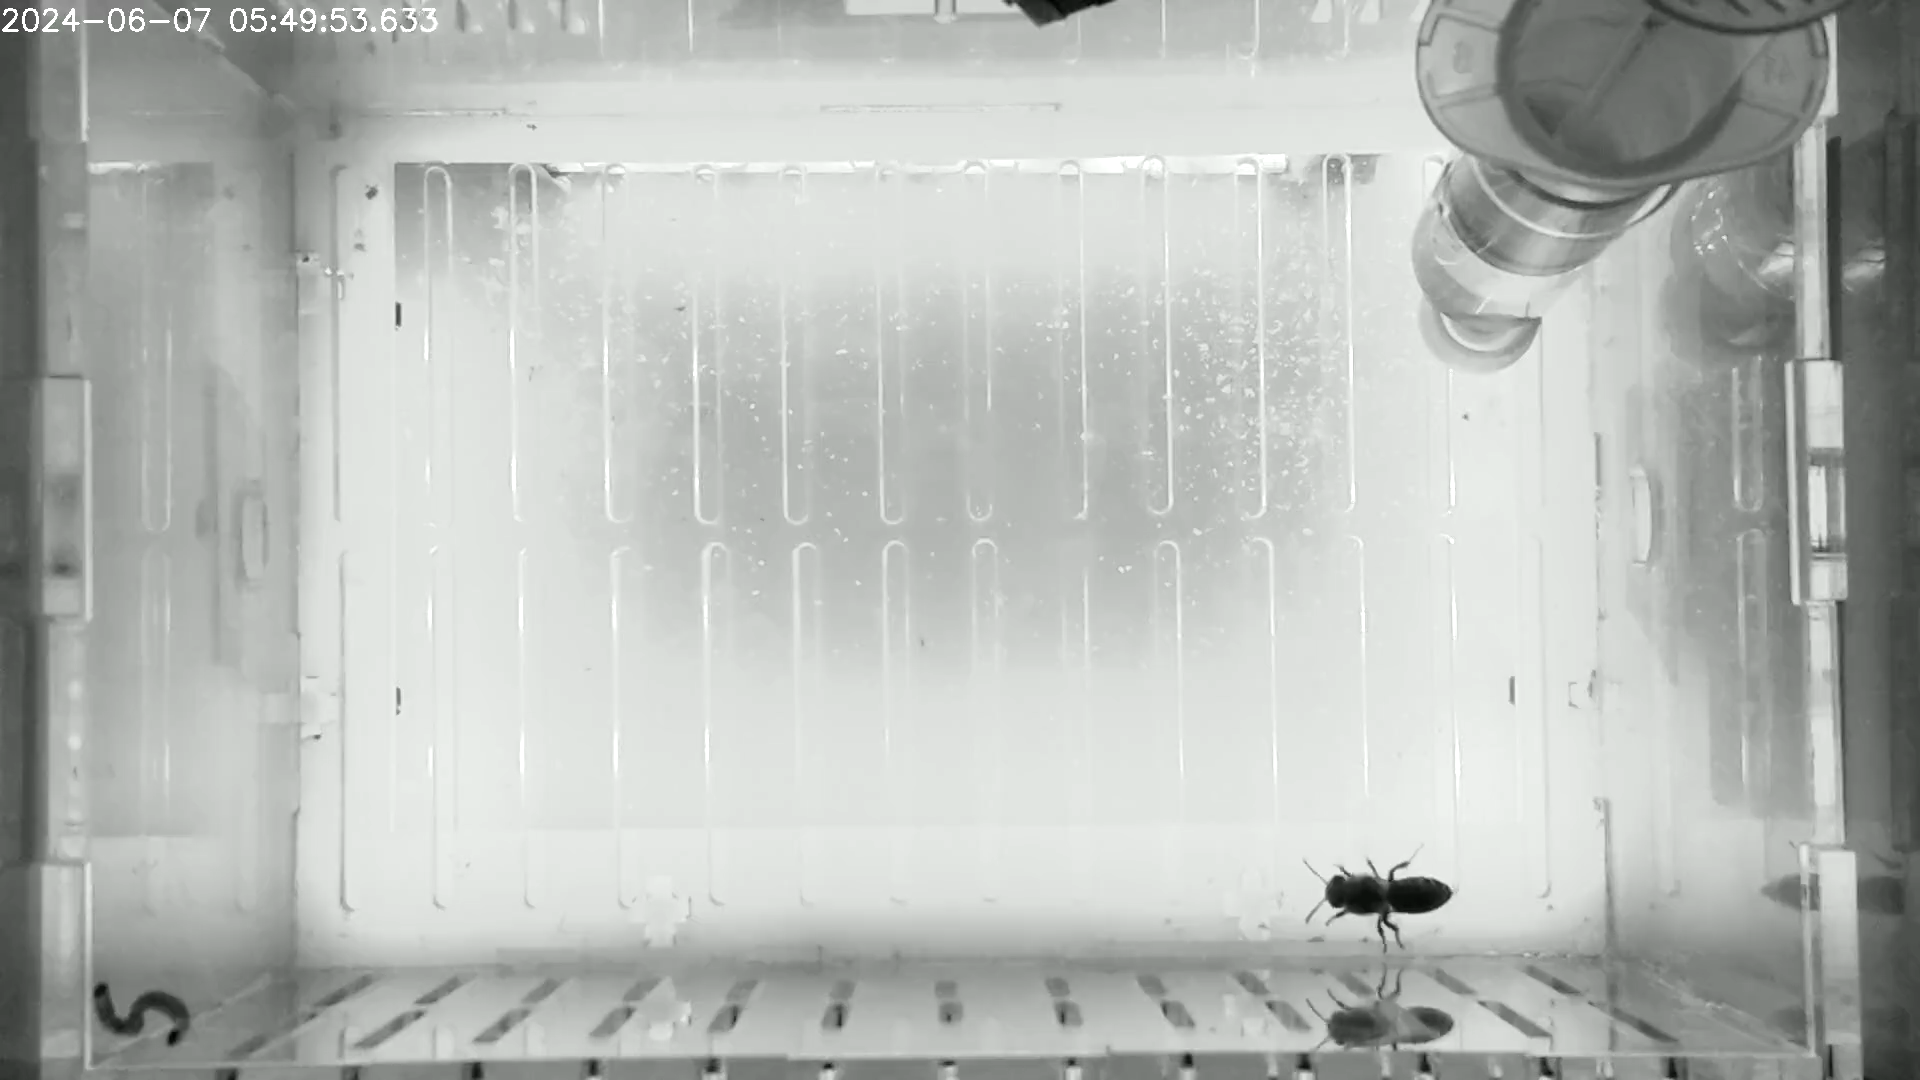bee: (1294, 837, 1457, 959)
feeder: (1402, 146, 1633, 334)
